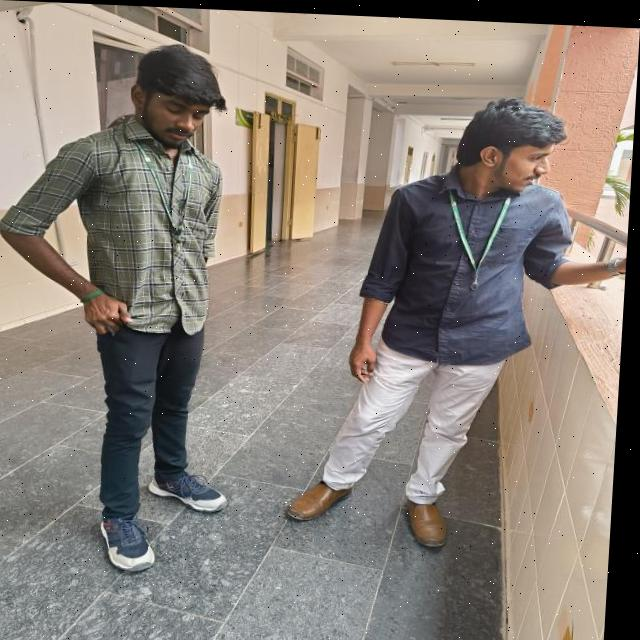id_card: (123, 134, 212, 250), (435, 172, 519, 287)
